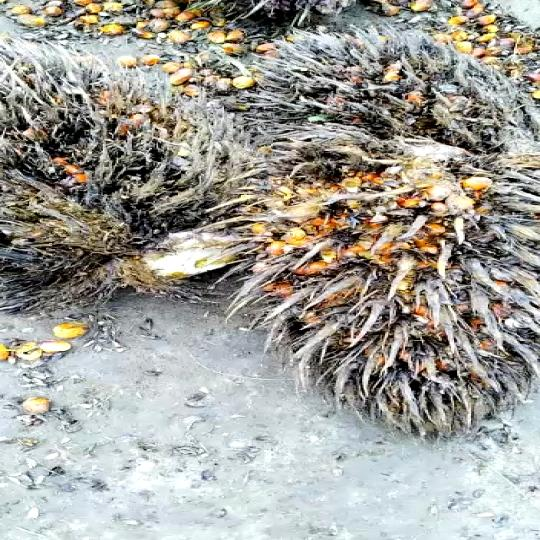terlalu masak: (227, 129, 540, 438), (0, 69, 226, 283), (227, 39, 540, 144)
